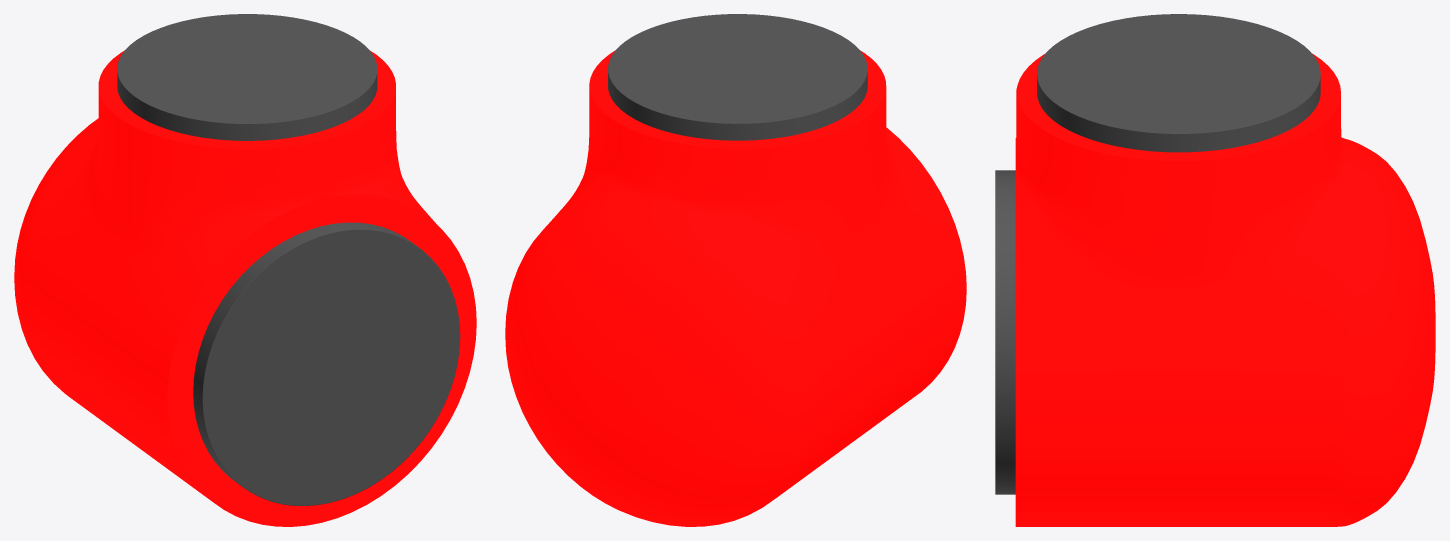
3 views of the same model, side by side, from view 1: azimuth 30°, elevation 25°; view 2: azimuth 150°, elevation 25°; view 3: azimuth 270°, elevation 25° (orthographic). The views are drawn at different scales.
Visible parts, largest first — view 1: Link06; view 2: Link06; view 3: Link06.
Part boxes in pixels (x1=…): Link06: x1=14, y1=14, x2=476, y2=526; Link06: x1=505, y1=14, x2=966, y2=526; Link06: x1=995, y1=14, x2=1435, y2=526.
Size of the model in its own units: 0.0955 by 0.108 by 0.1178.
